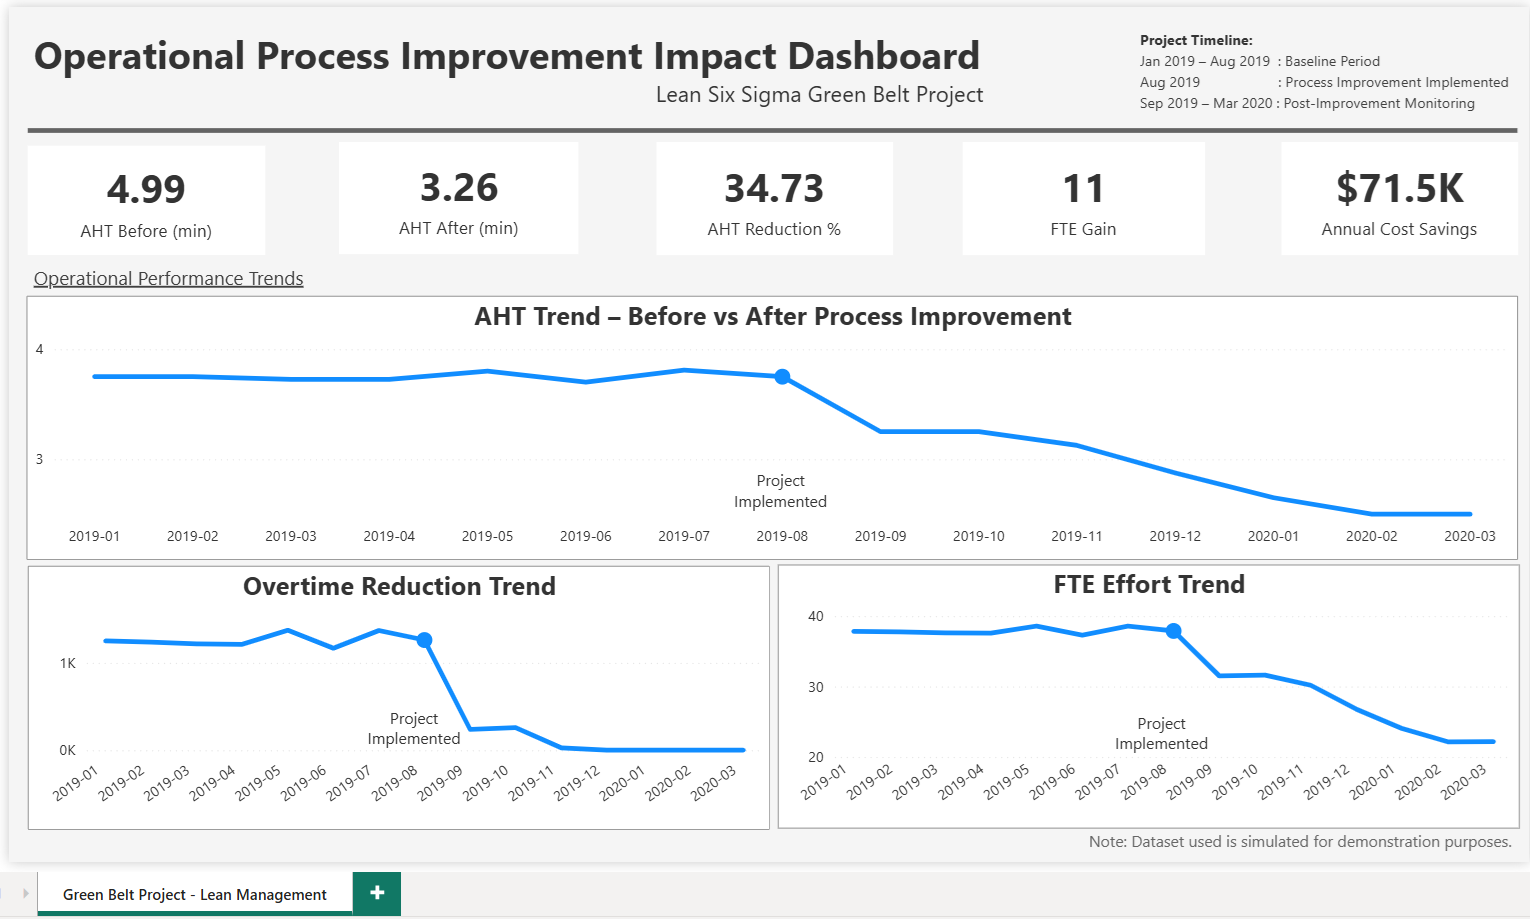

Layout of this report page (visuals, bound fields, positions):
{"tool":"powerbi","page":{"name":"Green Belt Project -  Lean Management","canvas":[1280,720],"ordinal":0},"visuals":[{"type":"textbox","box":[15.4,12.3,809.8,76.9],"z":0},{"type":"group","id":"g1","title":"Group 1","box":[15.4,113.5,1254.7,95.4],"z":1000},{"type":"card","fields":{"Values":["Key Measures.AHT Before Project"]},"box":[15.4,116.7,199.9,92.3],"z":2000,"group":"g1"},{"type":"group","id":"g2","title":"Group 2","box":[14.7,242.6,1255.6,222.4],"z":2000},{"type":"card","fields":{"Values":["Key Measures.AHT After Project"]},"box":[277.8,113.5,201.9,94.3],"z":3000,"group":"g1"},{"type":"group","id":"g3","title":"Group 3","box":[15.6,470.4,624.7,222.8],"z":3000},{"type":"card","fields":{"Values":["Key Measures.FTE Gain"]},"box":[802.7,113.5,204,95.3],"z":4000,"group":"g1"},{"type":"group","id":"g4","title":"Group 4","box":[647,469.9,624.4,222.4],"z":4000},{"type":"textbox","box":[947.2,12.3,323.9,86.1],"z":5000},{"type":"card","fields":{"Values":["Key Measures.Monetary Benefit"]},"box":[1071.2,113.5,198.9,95.3],"z":5000,"group":"g1"},{"type":"lineChart","title":"AHT Trend – Before vs After Process Improvement","fields":{"Category":["DimDate.Year Month"],"Y":["Key Measures.Average AHT","Key Measures.Improvement Marker"]},"box":[14.7,242.6,1255.6,222.4],"z":6000,"group":"g2"},{"type":"textbox","box":[904.5,688.4,367,31.6],"z":6000},{"type":"shape","box":[15.8,91.5,1254.5,24.8],"z":7000},{"type":"lineChart","title":"Overtime Reduction Trend","fields":{"Category":["DimDate.Year Month"],"Y":["Key Measures.Overtime Hours"]},"box":[15.6,470.4,624.7,222.8],"z":7000,"group":"g3"},{"type":"textbox","box":[15.8,211.2,241.6,31.6],"z":8000},{"type":"lineChart","title":"FTE Effort Trend","fields":{"Category":["DimDate.Year Month"],"Y":["Key Measures.FTE Effort"]},"box":[647,469.9,624.4,222.4],"z":8000,"group":"g4"},{"type":"textbox","box":[590.8,384,118.6,48.6],"z":9000,"group":"g2"},{"type":"textbox","box":[278.9,583.9,124.2,45.2],"z":9500,"group":"g3"},{"type":"textbox","box":[907.8,588.5,124.2,45.2],"z":9501,"group":"g4"},{"type":"card","fields":{"Values":["Key Measures.AHT Improvement %"]},"box":[545.4,113.5,198.9,95.3],"z":9502,"group":"g1"}]}

Visuals, with their boxes on the page's 1280x720 design canvas (x1, y1, x2, y2). These are canvas units, not pixel positions in the 1530x919 screenshot, which may show the page scaled, cropped or inside an application window:
textbox: x1=15, y1=12, x2=825, y2=89
"Group 1" group: x1=15, y1=114, x2=1270, y2=209
card - Key Measures.AHT Before Project: x1=15, y1=117, x2=215, y2=209
"Group 2" group: x1=15, y1=243, x2=1270, y2=465
card - Key Measures.AHT After Project: x1=278, y1=114, x2=480, y2=208
"Group 3" group: x1=16, y1=470, x2=640, y2=693
card - Key Measures.FTE Gain: x1=803, y1=114, x2=1007, y2=209
"Group 4" group: x1=647, y1=470, x2=1271, y2=692
textbox: x1=947, y1=12, x2=1271, y2=98
card - Key Measures.Monetary Benefit: x1=1071, y1=114, x2=1270, y2=209
"AHT Trend – Before vs After Process Improvement" lineChart: x1=15, y1=243, x2=1270, y2=465
textbox: x1=904, y1=688, x2=1272, y2=720
shape: x1=16, y1=92, x2=1270, y2=116
"Overtime Reduction Trend" lineChart: x1=16, y1=470, x2=640, y2=693
textbox: x1=16, y1=211, x2=257, y2=243
"FTE Effort Trend" lineChart: x1=647, y1=470, x2=1271, y2=692
textbox: x1=591, y1=384, x2=709, y2=433
textbox: x1=279, y1=584, x2=403, y2=629
textbox: x1=908, y1=588, x2=1032, y2=634
card - Key Measures.AHT Improvement %: x1=545, y1=114, x2=744, y2=209
